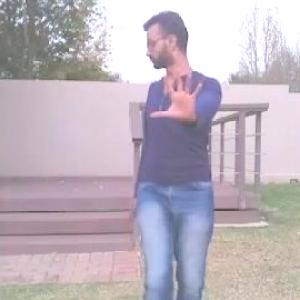follow_hand: (148, 62, 206, 126)
